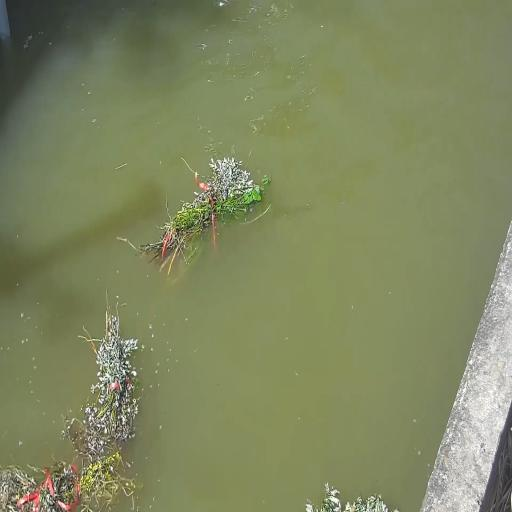twig: (58, 295, 144, 508), (134, 155, 267, 272), (1, 456, 136, 512), (306, 481, 397, 512)
